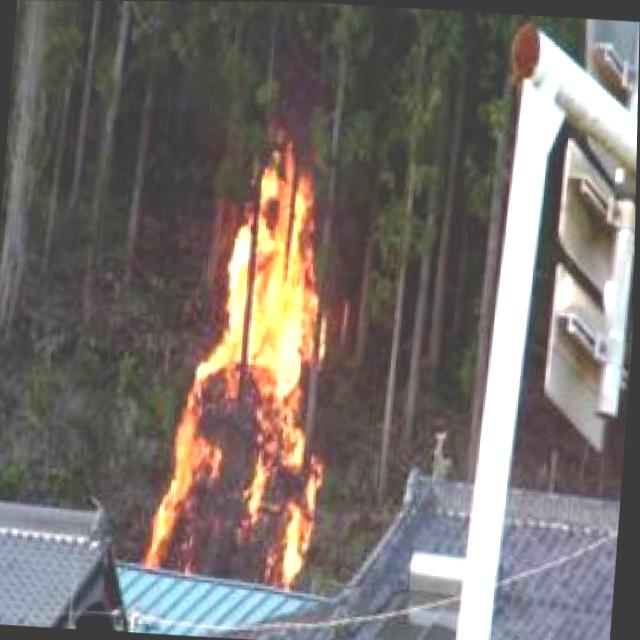helmet: (121, 96, 344, 592)
